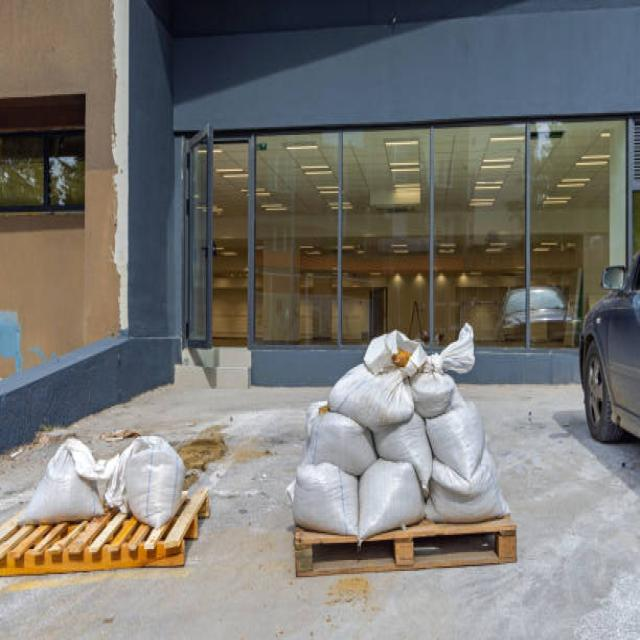Wooden-Pallets: (2, 488, 214, 583), (294, 519, 518, 585)
